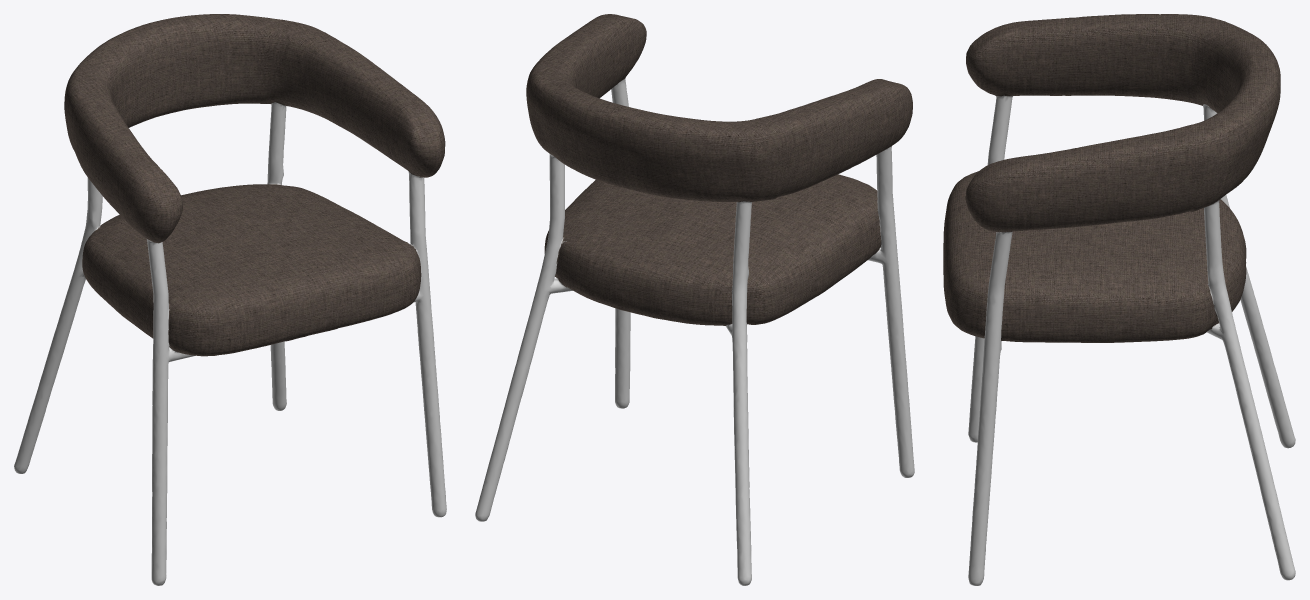
The model's file is GoldLegsChair.glb.
3 renders of one model, left to right at view 1: azimuth 30°, elevation 25°; view 2: azimuth 150°, elevation 25°; view 3: azimuth 270°, elevation 25°, orthographic. The views are drawn at different scales.
Parts seen in each view (by area): view 1: world.003; view 2: world.003; view 3: world.003.
Boxes of the visible parts, left/top/right/bottom form: world.003: left=14, top=14, right=446, bottom=585; world.003: left=475, top=14, right=914, bottom=585; world.003: left=943, top=14, right=1295, bottom=585.
Size of the model in its own units: 0.7531 by 1 by 0.7169.
2 materials, 1 textured.
